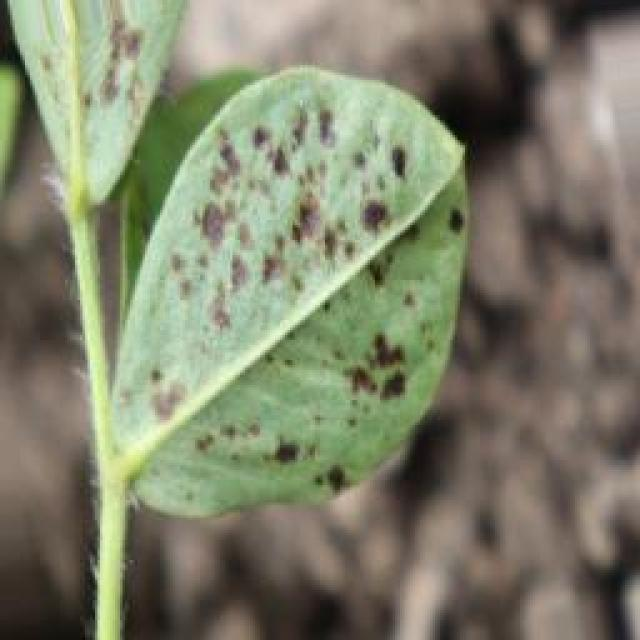Whitefly: (29, 0, 478, 506)
